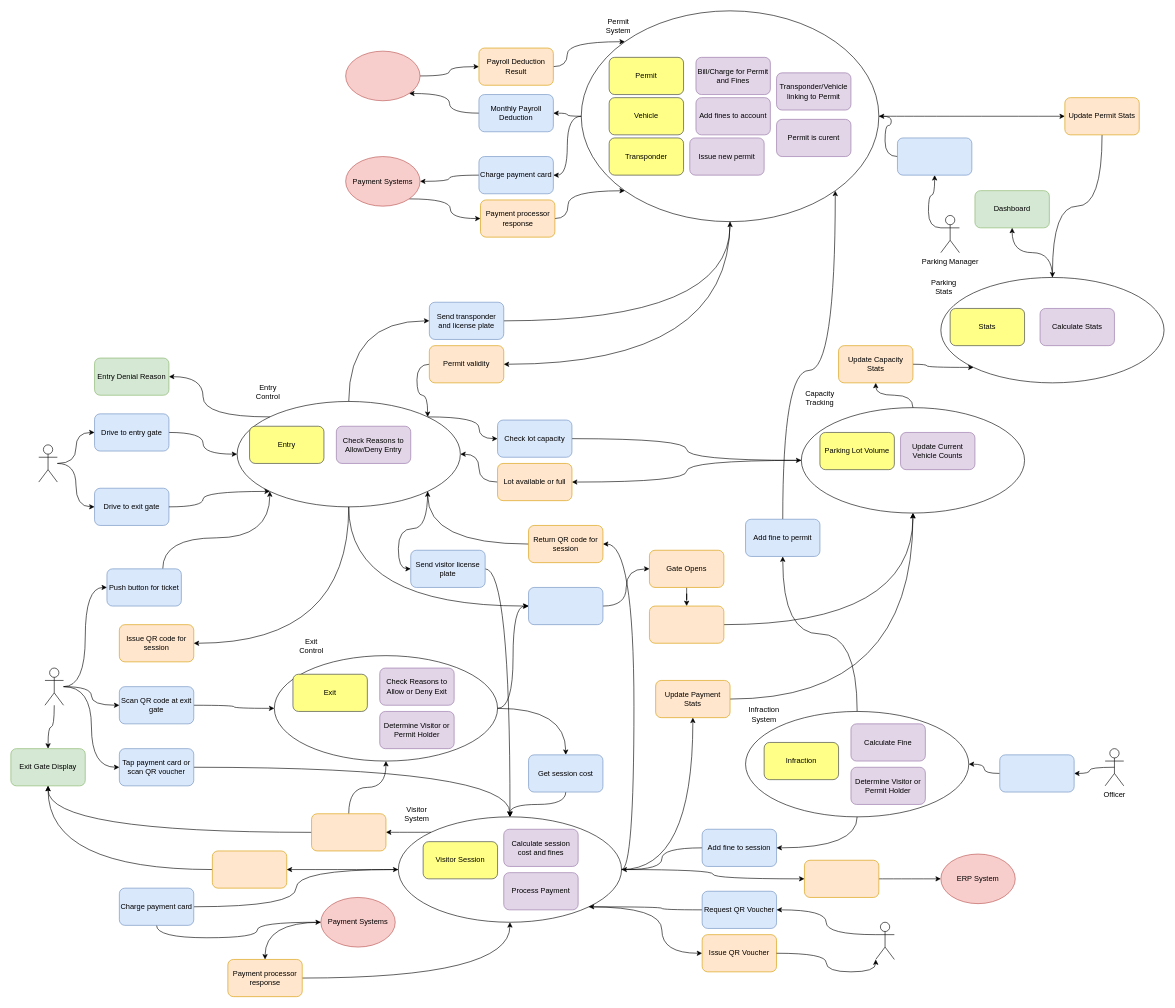
Some shapes in this 1175 by 1008 pixel diagram are drawn without their labels. The shapes that lost their labels are listed below. From the top down, each one's box as (x1, y1, x2, y2) in pixels, then its label:
(345, 51, 420, 101): Payroll System
(897, 137, 972, 175): Create/Update Permit
(38, 444, 57, 482): Permit Holder
(528, 587, 603, 625): Open Gate
(649, 605, 724, 643): Update Capacity
(44, 667, 64, 705): Visitor
(999, 754, 1074, 792): Scan plate and enter infraction
(311, 813, 386, 851): Payment result
(212, 850, 287, 888): Total cost for session
(804, 860, 879, 897): Bill Department for QR Voucher
(875, 922, 894, 959): Admin Staff
